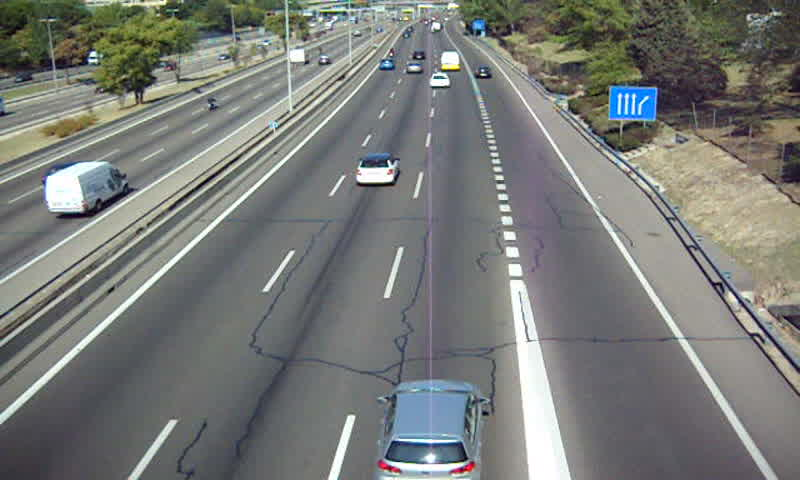car: (379, 381, 483, 480), (356, 155, 399, 183), (428, 74, 452, 88), (473, 67, 492, 80)
